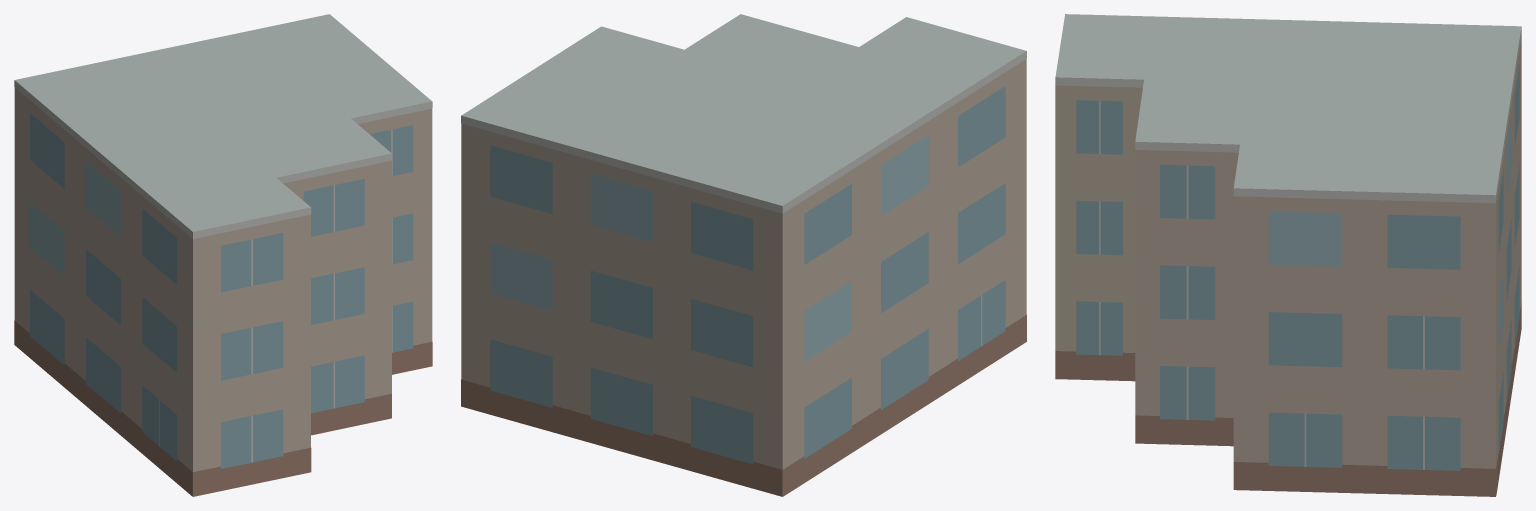
Rendered from residential-1044899e-537b-4a79-98f3-bd237684124f.glb.
3 views of the same model, side by side, from view 1: azimuth 30°, elevation 25°; view 2: azimuth 150°, elevation 25°; view 3: azimuth 270°, elevation 25° (orthographic). The views are drawn at different scales.
Parts seen in each view (by area): view 1: residential-1044899e-537b-4a79-98f3-bd237684124f.tmp; view 2: residential-1044899e-537b-4a79-98f3-bd237684124f.tmp; view 3: residential-1044899e-537b-4a79-98f3-bd237684124f.tmp.
Boxes of the visible parts, x1=… form: residential-1044899e-537b-4a79-98f3-bd237684124f.tmp: x1=14, y1=14, x2=432, y2=496; residential-1044899e-537b-4a79-98f3-bd237684124f.tmp: x1=461, y1=14, x2=1026, y2=496; residential-1044899e-537b-4a79-98f3-bd237684124f.tmp: x1=1055, y1=14, x2=1521, y2=496.
Bounding box in the file's own units: 11.79 × 9.15 × 12.82.
